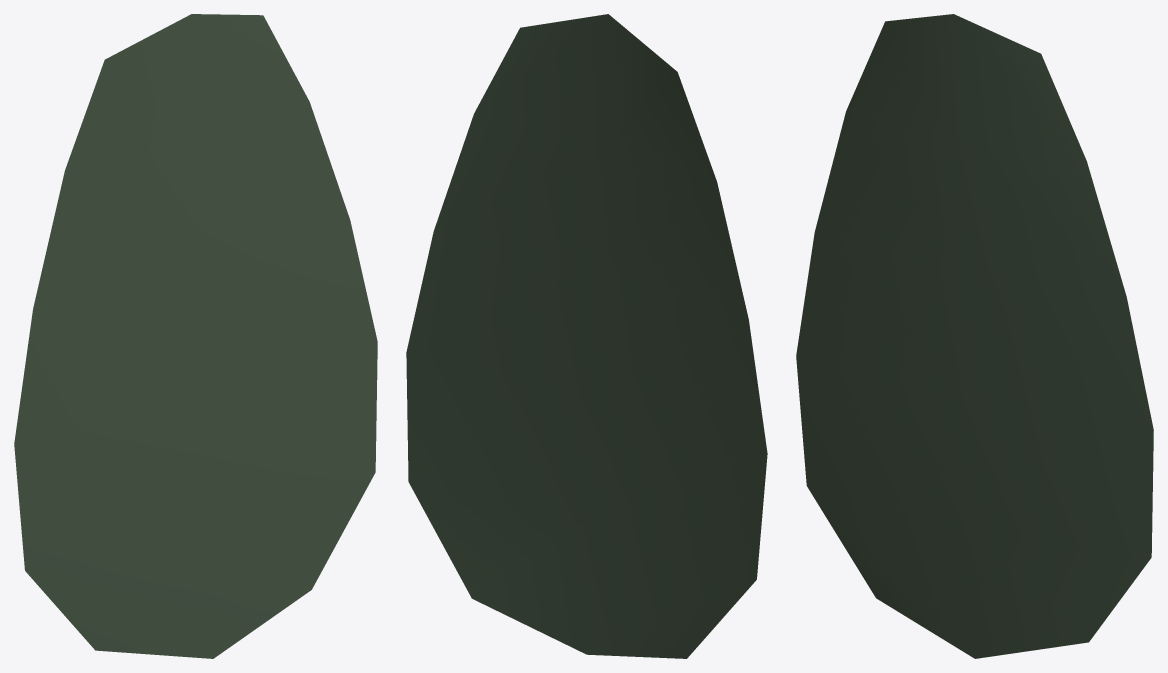
Rendered from duck_feather_flight_tertiary_007.obj.
3 renders of one model, left to right at view 1: azimuth 30°, elevation 25°; view 2: azimuth 150°, elevation 25°; view 3: azimuth 330°, elevation 25°, orthographic.
Visible parts, largest first — view 1: feather_flight_tertiary_007; view 2: feather_flight_tertiary_007; view 3: feather_flight_tertiary_007.
Part boxes in pixels (left/top/right/bottom): feather_flight_tertiary_007: left=14, top=14, right=377, bottom=658; feather_flight_tertiary_007: left=406, top=14, right=767, bottom=658; feather_flight_tertiary_007: left=796, top=14, right=1153, bottom=658.
Size of the model in its own units: 0.0154 by 0.0264 by 0.000633.
